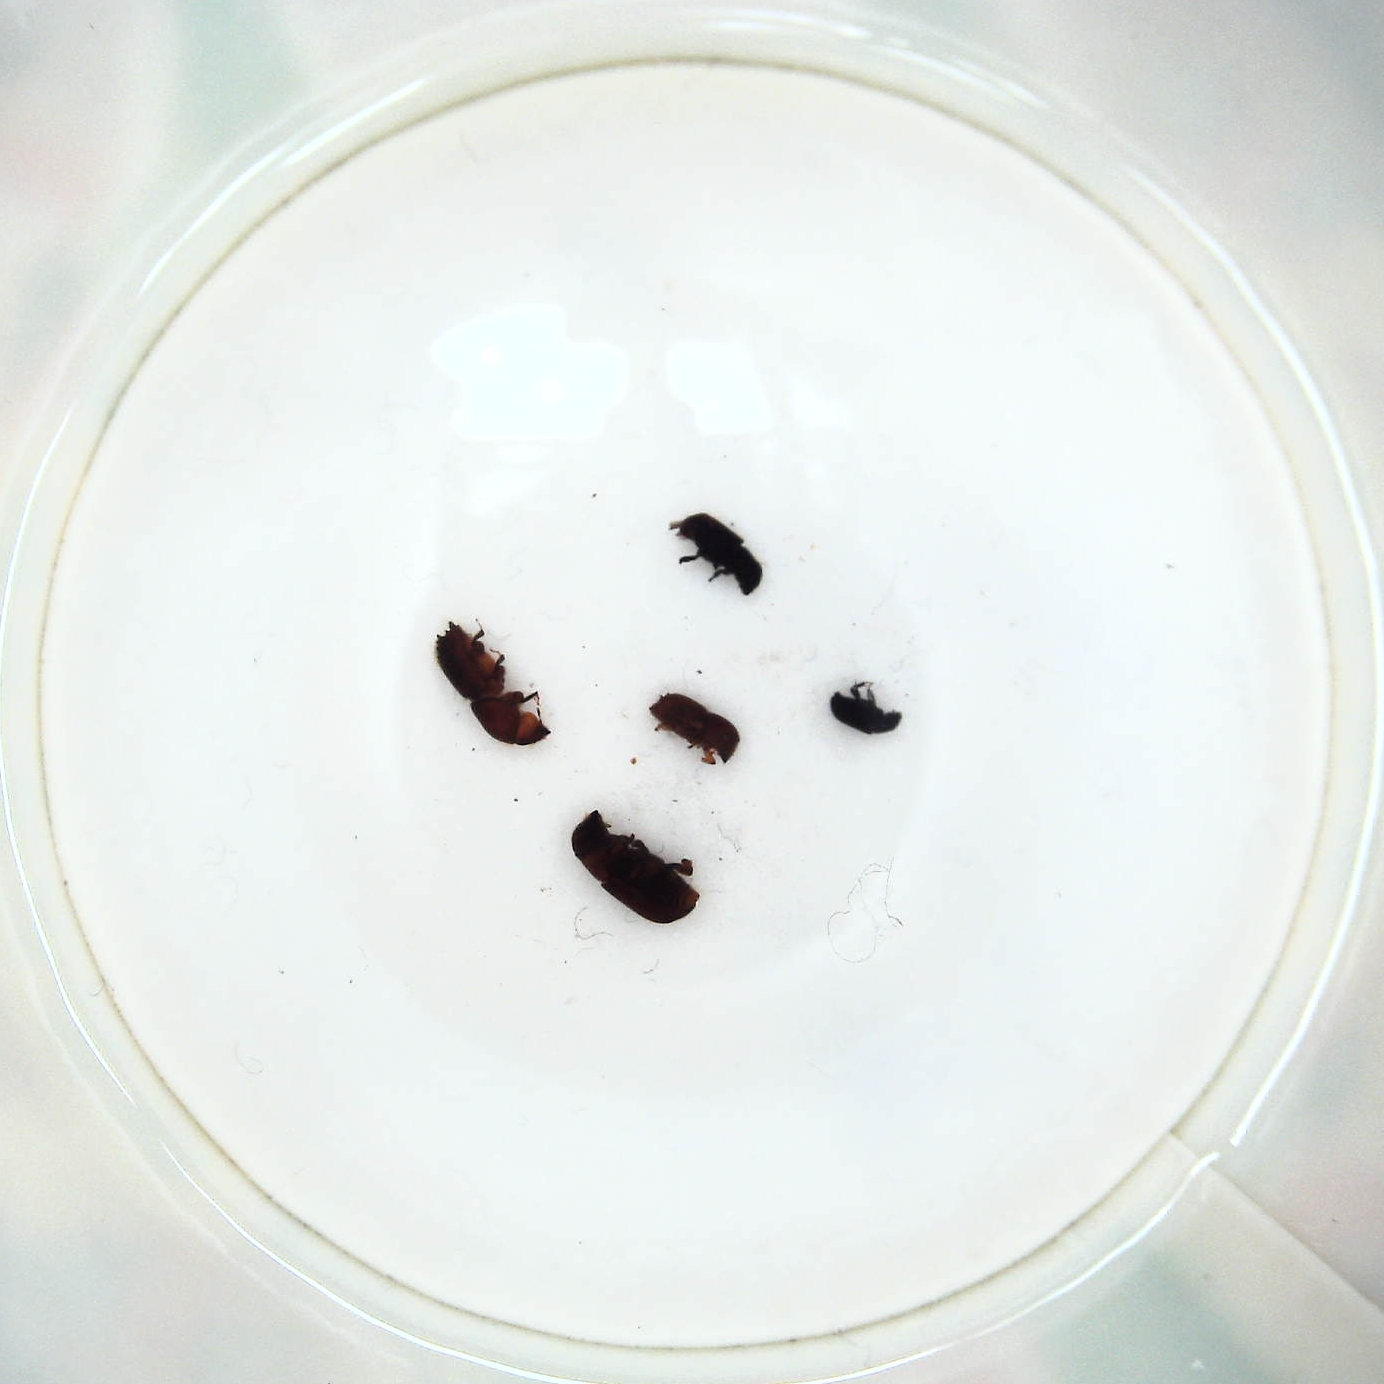Boerner: (431, 613, 548, 758)
Leconte: (570, 809, 700, 932)
armandi: (662, 509, 766, 599)
coleoptera: (826, 676, 902, 741)
linnaeus: (648, 684, 743, 773)
